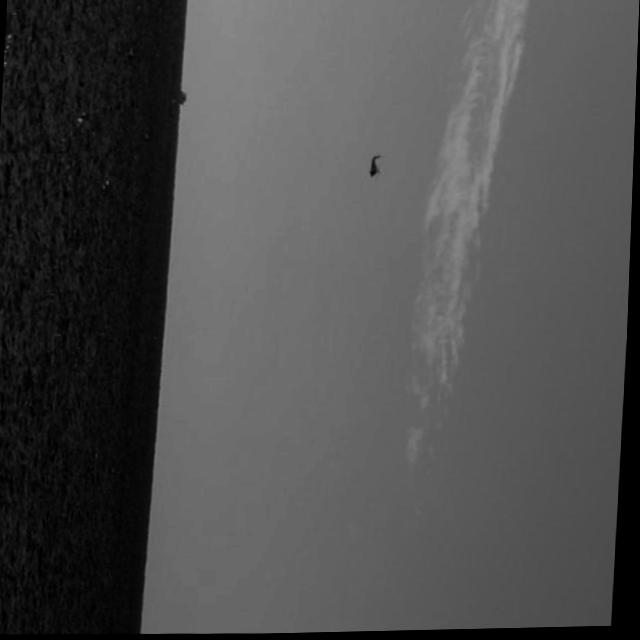helikopter: (339, 125, 416, 205)
